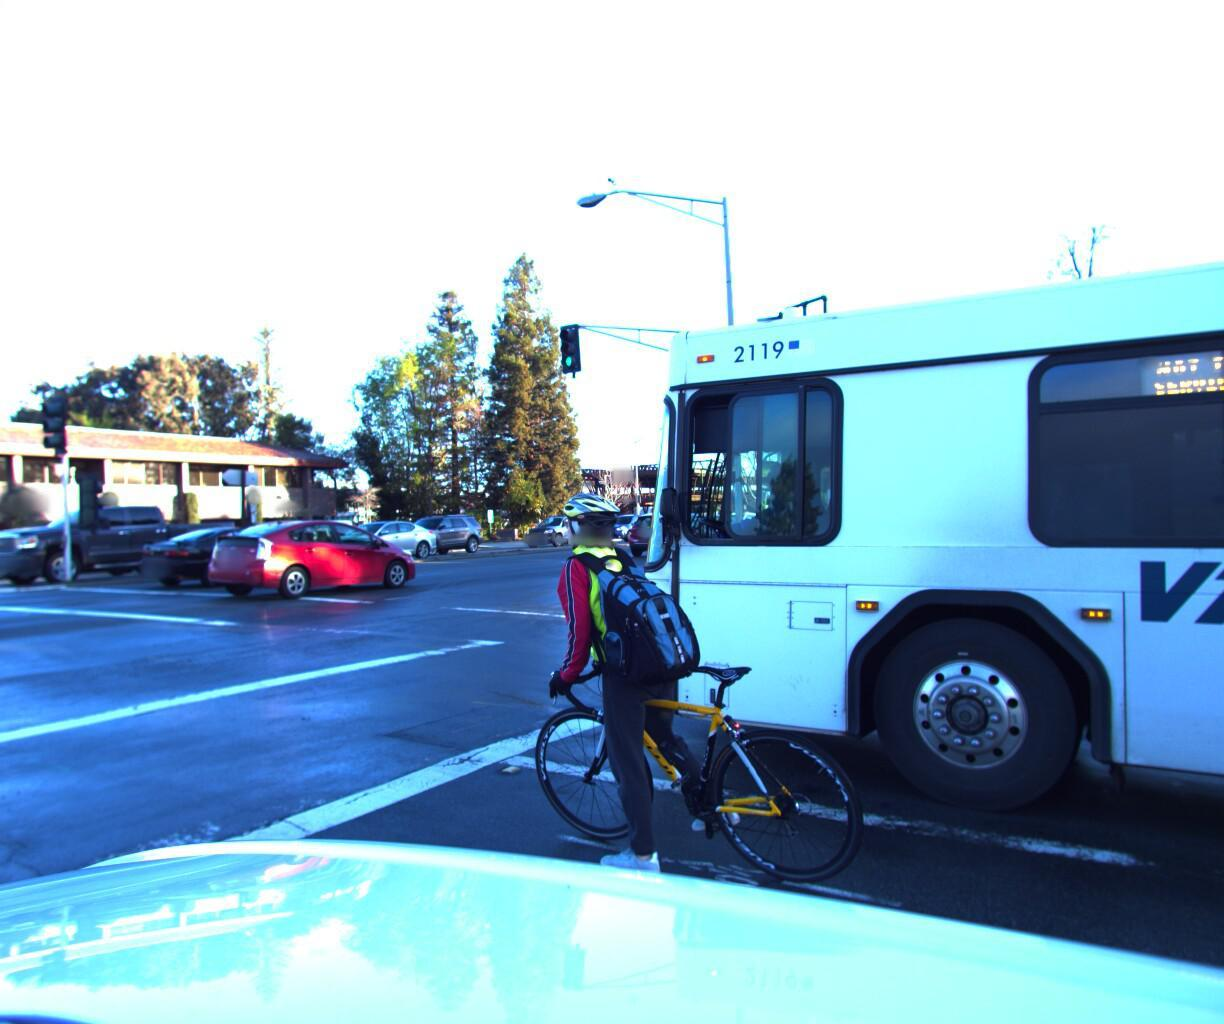bicycle: (419, 467, 855, 968)
car: (198, 516, 431, 604), (132, 517, 340, 588), (4, 521, 198, 579), (301, 515, 442, 569), (242, 515, 371, 564), (377, 510, 487, 560), (621, 510, 714, 558), (521, 511, 594, 547), (595, 511, 658, 544)
